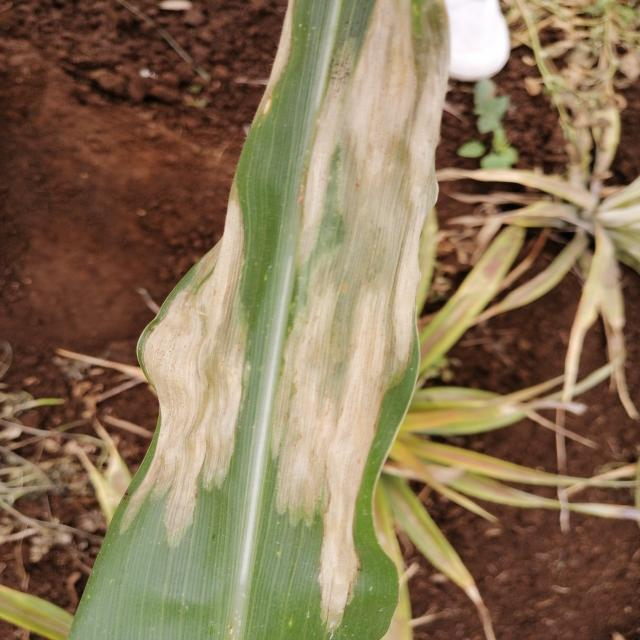Corn_Leaf_Blight: (122, 0, 454, 640)
